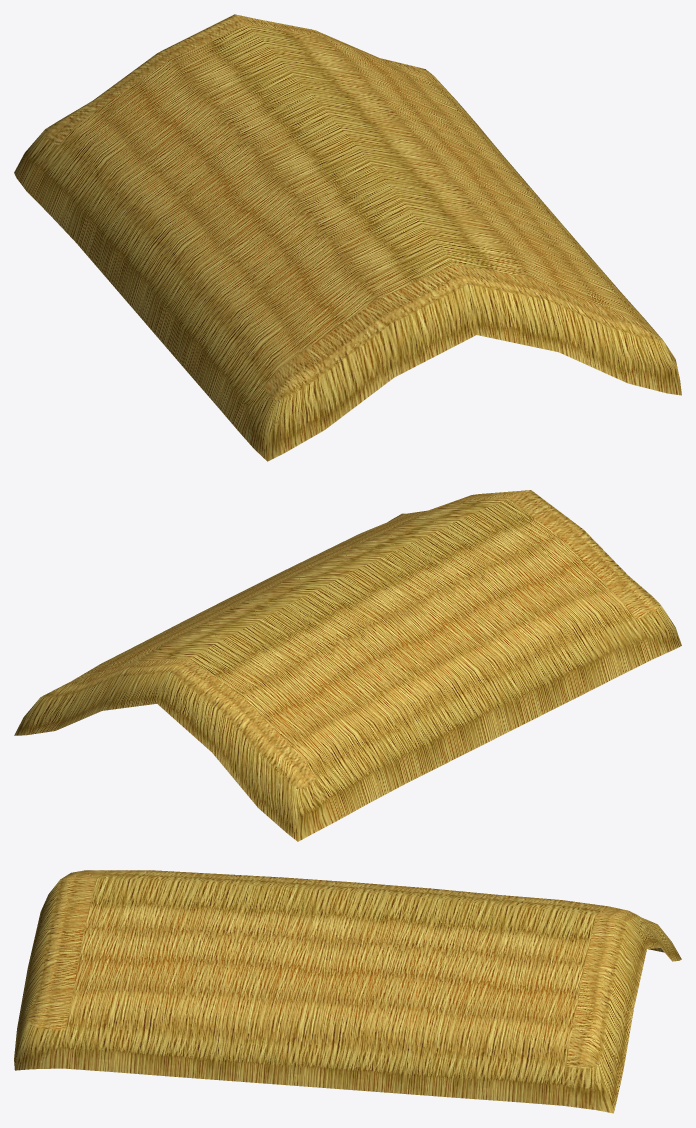
Rendered from HTOWN01_CHICKENCOOPROOF.fbx.
The picture shows the model from 3 angles, top to bottom: view 1: azimuth 30°, elevation 25°; view 2: azimuth 150°, elevation 25°; view 3: azimuth 270°, elevation 25°; orthographic projection. The views are drawn at different scales.
Visible parts, largest first — view 1: HTOWN01_CHICKENCOOPROOF; view 2: HTOWN01_CHICKENCOOPROOF; view 3: HTOWN01_CHICKENCOOPROOF.
Boxes of the visible parts, x1,y1,x2,y2 form: HTOWN01_CHICKENCOOPROOF: (14, 14, 681, 461); HTOWN01_CHICKENCOOPROOF: (14, 490, 681, 841); HTOWN01_CHICKENCOOPROOF: (14, 870, 681, 1113).
Bounding box in the file's own units: 86256 × 24563 × 120117.
4 materials, 4 textured.
